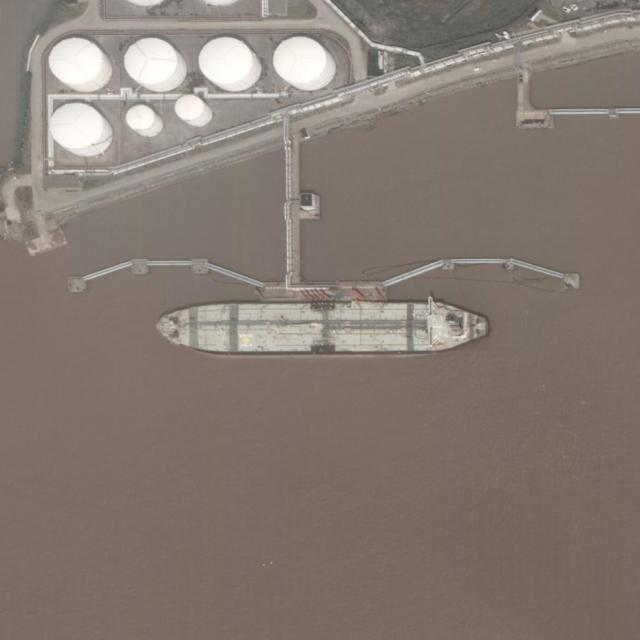Oil Tanker: (158, 300, 488, 355)
